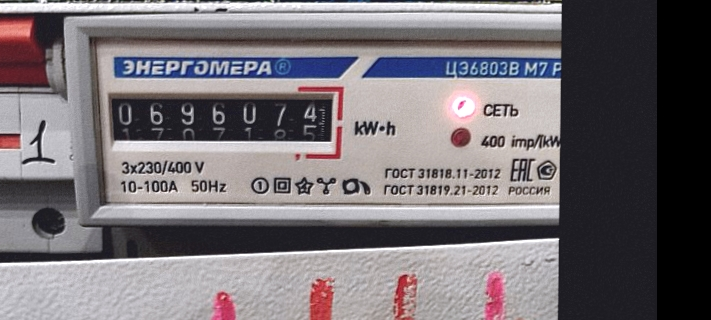0: (114, 100, 133, 125), (241, 99, 257, 125)
4: (302, 98, 318, 123)
5: (301, 122, 317, 141)
6: (147, 99, 166, 126), (209, 100, 226, 124)
7: (270, 100, 288, 126)
9: (177, 100, 196, 125)
screen: (95, 78, 348, 162)
